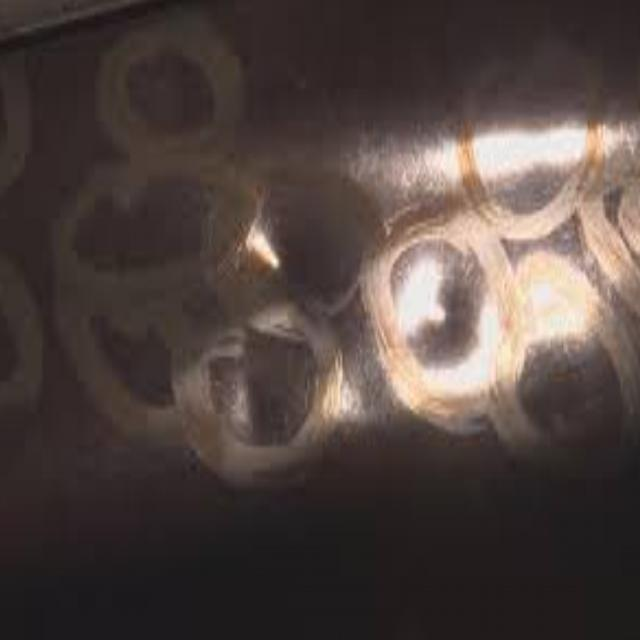dents: (517, 256, 629, 502), (177, 310, 334, 480), (388, 231, 501, 437), (241, 152, 364, 304), (466, 53, 576, 203)
